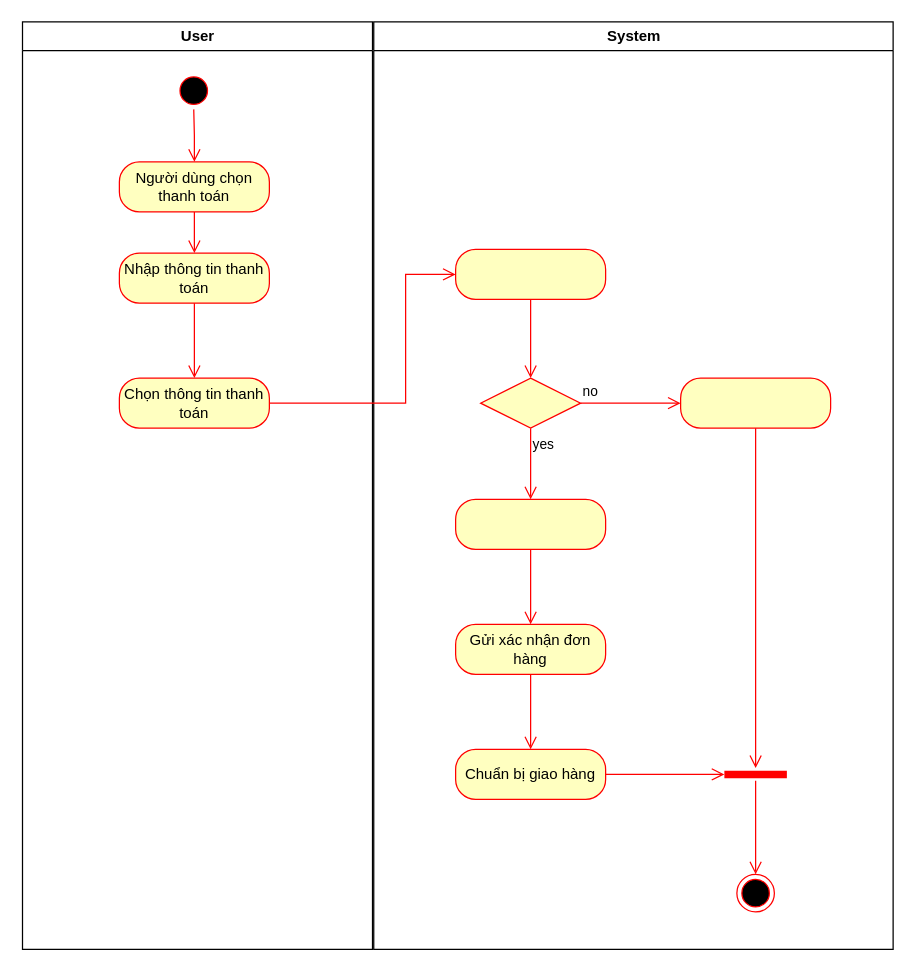
The diagram is 915 pixels wide and 971 high, and some of its shapes have lost their labels. The shapes that lost their labels are listed below. From the top down, each one's centre as x and y in pixels, then its label:
At point (530, 273): "Xác nhận thông tin thanh toán".
At point (755, 402): "Hiện thông báo lỗi".
At point (530, 523): "Xác nhận đơn hàng".
